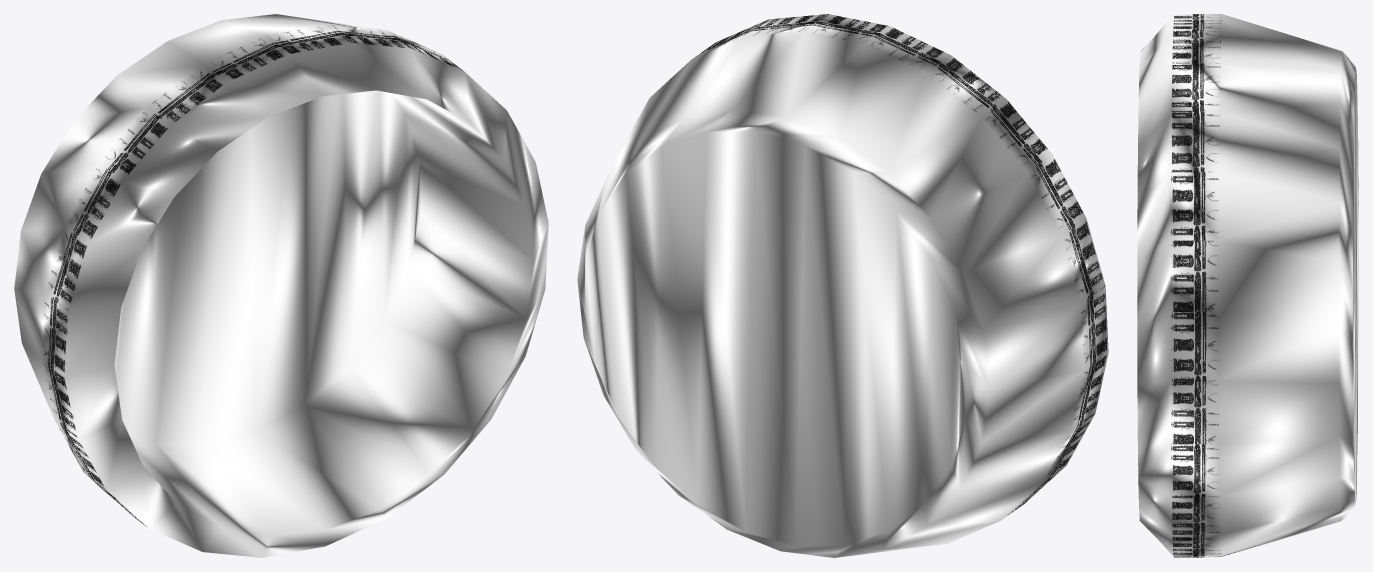
Rendered from model_align.obj.
3 views of the same model, side by side, from view 1: azimuth 30°, elevation 25°; view 2: azimuth 150°, elevation 25°; view 3: azimuth 270°, elevation 25° (orthographic).
Size of the model in its own units: 0.1618 by 0.1617 by 0.0657.
